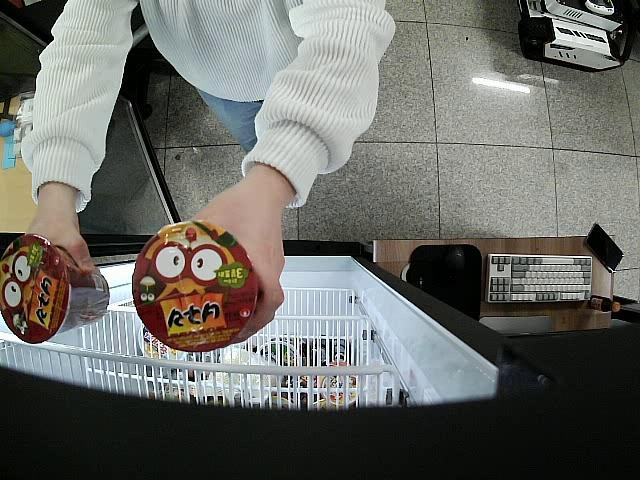00_hand: (191, 187, 287, 346), (24, 211, 96, 274)
06_nuguri_S: (131, 220, 257, 351), (1, 234, 109, 346)
